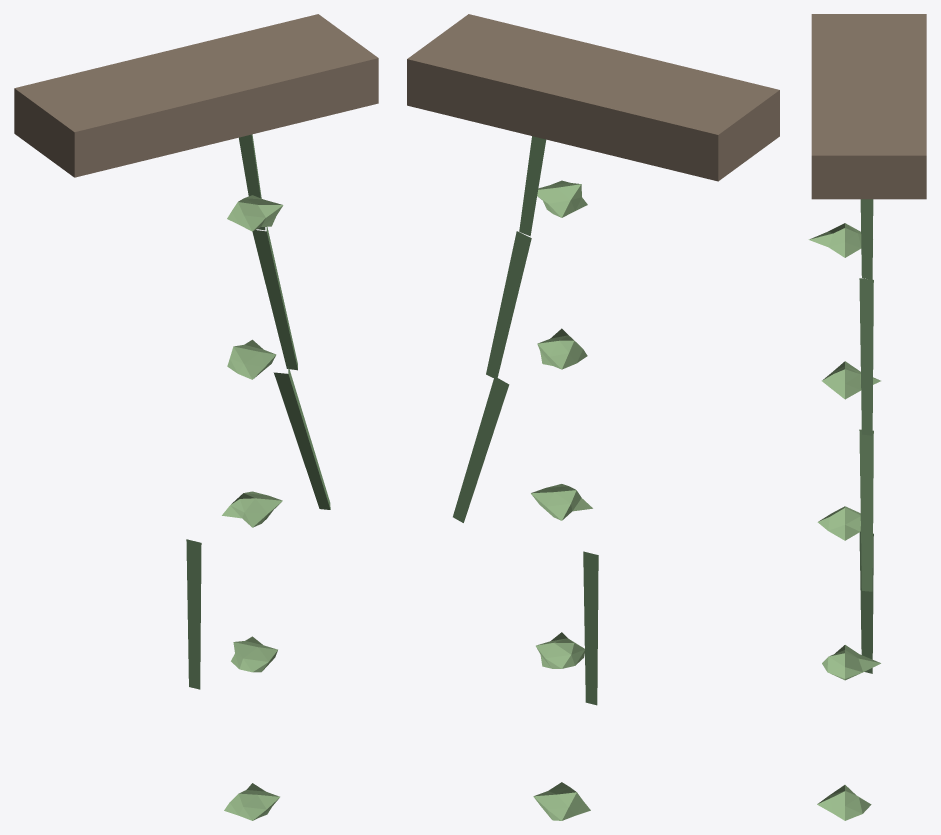
File: vine_v17.glb
3 renders of one model, left to right at view 1: azimuth 30°, elevation 25°; view 2: azimuth 150°, elevation 25°; view 3: azimuth 270°, elevation 25°, orthographic. The views are drawn at different scales.
Visible parts, largest first — view 1: lod0; view 2: lod0; view 3: lod0.
Part boxes in pixels (x1=…): lod0: x1=14, y1=14, x2=378, y2=820; lod0: x1=407, y1=14, x2=779, y2=820; lod0: x1=808, y1=14, x2=926, y2=820.
Size of what is drawn, in the model's own units: 0.7 by 1.65 by 0.2465.
